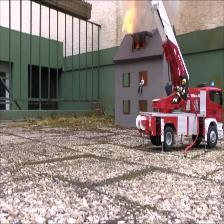fire: (123, 1, 135, 33)
